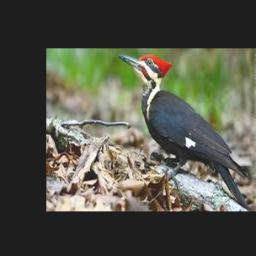Woodpecker: (119, 54, 253, 211)
